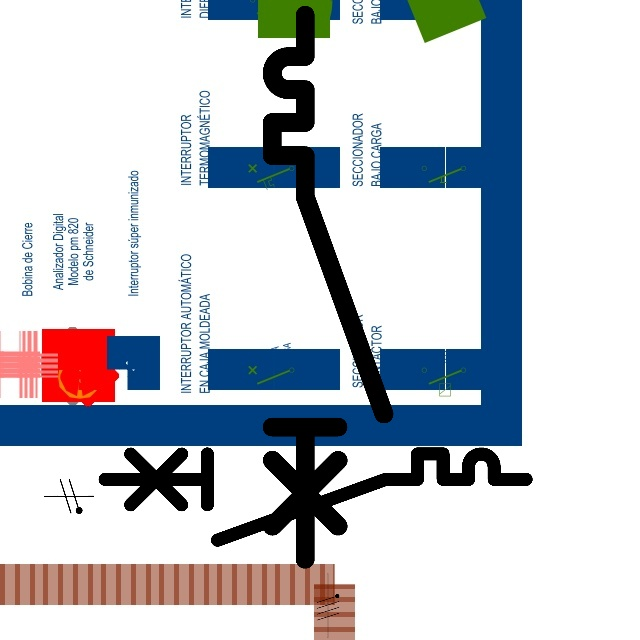interruptor_termomagnetico: (258, 1, 398, 573), (94, 443, 537, 551)
